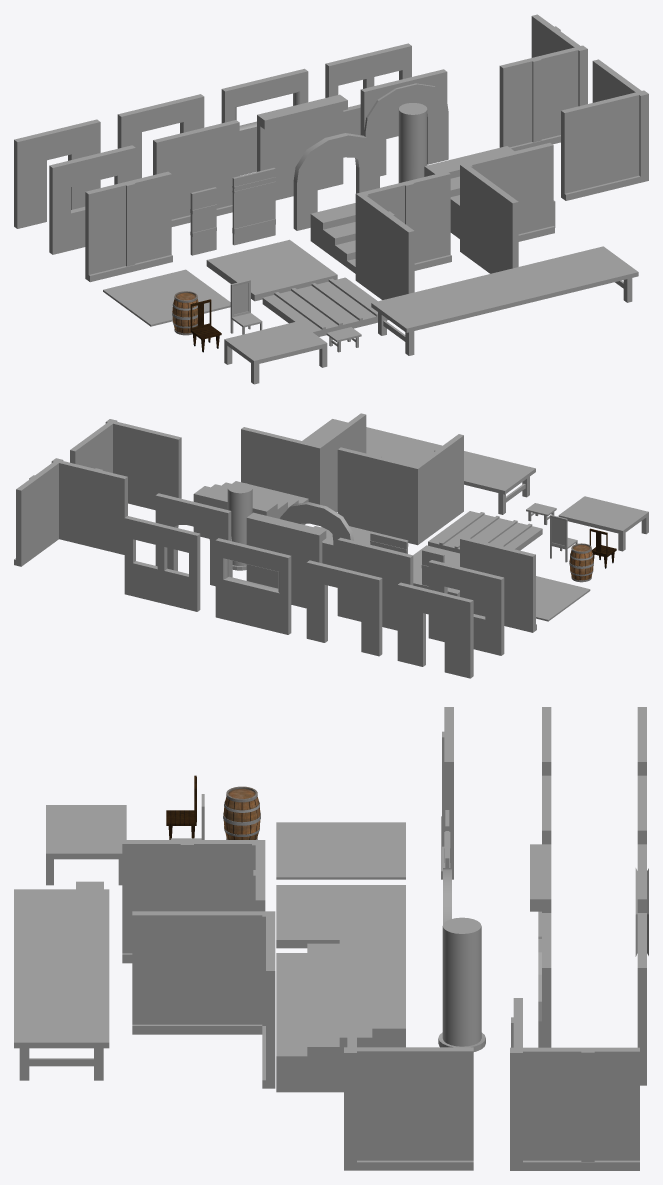
Rendered from CastleSiege_ModularFBX_updated.fbx.
The picture shows the model from 3 angles, top to bottom: view 1: azimuth 30°, elevation 25°; view 2: azimuth 150°, elevation 25°; view 3: azimuth 270°, elevation 25°; orthographic projection. The views are drawn at different scales.
Parts seen in each view (by area): view 1: pasted__pasted__Dining_Table, polySurface5, pasted__pasted__pCube25, polySurface10, pCube35, pCube29, pCube16, pCube14, Wall_Door, pCube24, pCube10, pCube9 (+15 smaller); view 2: polySurface5, pCube35, pasted__pasted__pCube25, polySurface10, pCube2, pasted__pCube1, Wall_Door, pasted__pasted__Dining_Table, pCube29, Wall_Door2, pCube14, pCube10 (+15 smaller); view 3: pasted__pasted__pCube25, pCube35, pasted__pasted__Dining_Table, polySurface10, polySurface5, pasted__pasted__pCube8, pCube3, pCube9, pCube8, pCylinder1, pasted__Table, pasted__pCylinder1 (+11 smaller).
Boxes of the visible parts, left/top/right/bottom form: pasted__pasted__Dining_Table: left=371, top=246, right=638, bottom=355; polySurface5: left=355, top=171, right=451, bottom=299; pasted__pasted__pCube25: left=460, top=143, right=554, bottom=273; polySurface10: left=561, top=59, right=648, bottom=200; pCube35: left=499, top=14, right=587, bottom=150; pCube29: left=85, top=171, right=172, bottom=282; pCube16: left=153, top=120, right=239, bottom=226; pCube14: left=257, top=94, right=347, bottom=200; Wall_Door: left=14, top=119, right=100, bottom=228; pCube24: left=360, top=69, right=448, bottom=176; pCube10: left=49, top=145, right=135, bottom=254; pCube9: left=206, top=239, right=337, bottom=301; polySurface5: left=337, top=434, right=463, bottom=545; pCube35: left=14, top=458, right=127, bottom=566; pasted__pasted__pCube25: left=241, top=413, right=366, bottom=512; polySurface10: left=70, top=419, right=181, bottom=510; pCube2: left=215, top=538, right=291, bottom=634; pasted__pCube1: left=124, top=516, right=200, bottom=611; Wall_Door: left=397, top=582, right=473, bottom=678; pasted__pasted__Dining_Table: left=302, top=419, right=535, bottom=514; pCube29: left=460, top=537, right=536, bottom=632; Wall_Door2: left=306, top=560, right=382, bottom=656; pCube14: left=246, top=512, right=326, bottom=608; pCube10: left=428, top=560, right=504, bottom=655; pasted__pasted__pCube25: left=132, top=911, right=275, bottom=1088; pCube35: left=510, top=998, right=639, bottom=1170; pasted__pasted__Dining_Table: left=14, top=889, right=109, bottom=1080; polySurface10: left=344, top=998, right=473, bottom=1170; polySurface5: left=122, top=840, right=265, bottom=963; pasted__pasted__pCube8: left=276, top=973, right=405, bottom=1092; pCube3: left=276, top=822, right=405, bottom=879; pCube9: left=276, top=885, right=405, bottom=948; pCube8: left=276, top=925, right=405, bottom=1001; pCylinder1: left=438, top=917, right=485, bottom=1051; pasted__Table: left=46, top=805, right=126, bottom=885; pasted__pCylinder1: left=223, top=786, right=260, bottom=839.
Bounding box in the file's own units: 25.2 × 4.05 × 19.55.
Materials: 14 (2 with a texture image).
